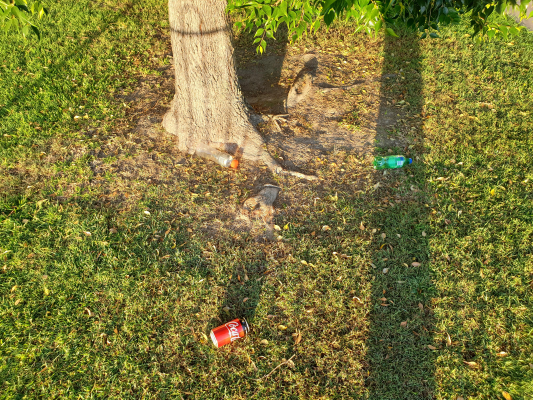Plastic Bottle: (210, 317, 250, 348), (196, 144, 239, 169), (373, 155, 412, 170)
